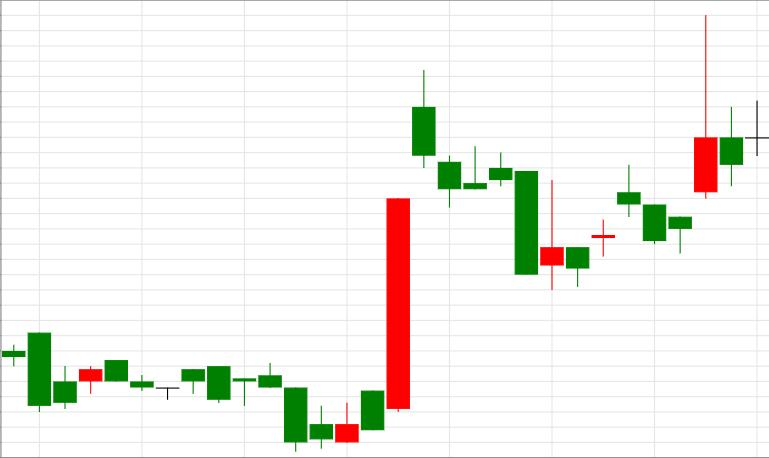shooting_star_fall: (515, 14, 718, 291)
